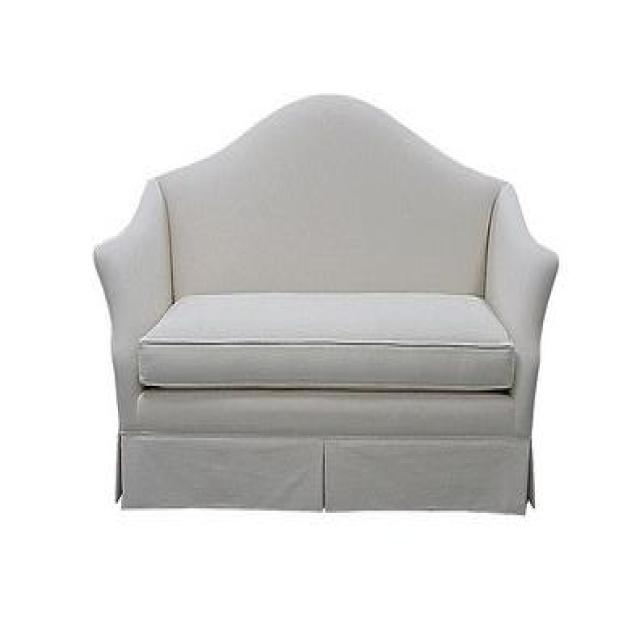sofa: (91, 90, 561, 520)
